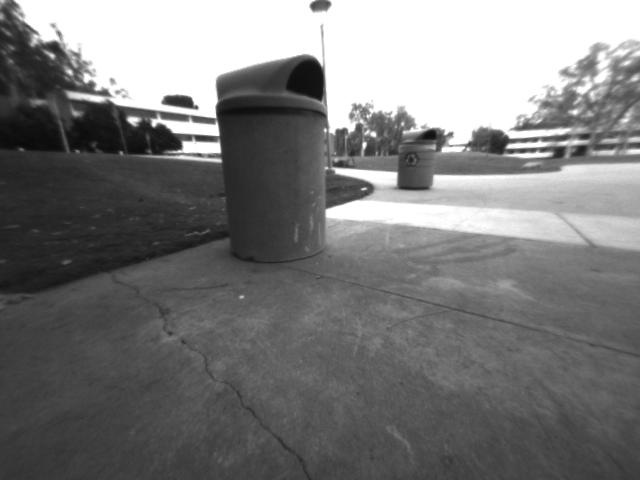trashcan: (198, 53, 351, 273)
